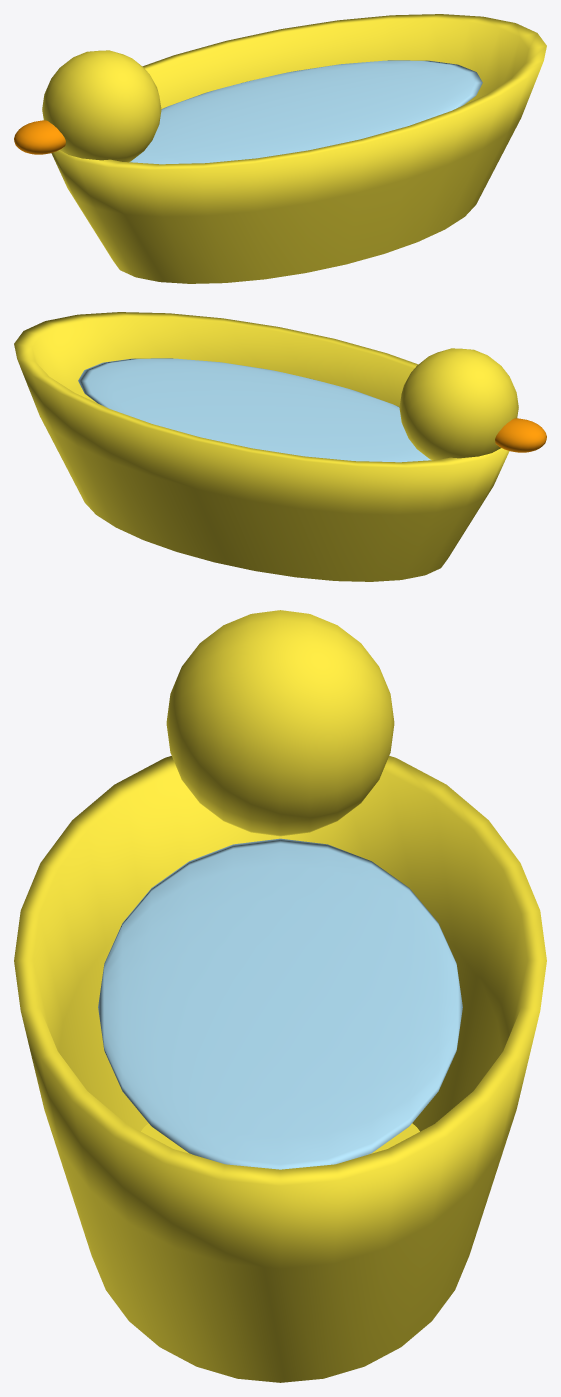
File: baby_bath.fbx
3 renders of one model, top to bottom at view 1: azimuth 30°, elevation 25°; view 2: azimuth 150°, elevation 25°; view 3: azimuth 270°, elevation 25°, orthographic. The views are drawn at different scales.
Visible parts, largest first — view 1: Duck Bath; view 2: Duck Bath; view 3: Duck Bath.
Boxes of the visible parts, x1,y1,x2,y2 form: Duck Bath: (14, 14, 546, 283); Duck Bath: (14, 312, 546, 581); Duck Bath: (14, 610, 546, 1382).
Size of the model in its own units: 2.01 by 0.81 by 0.935.
